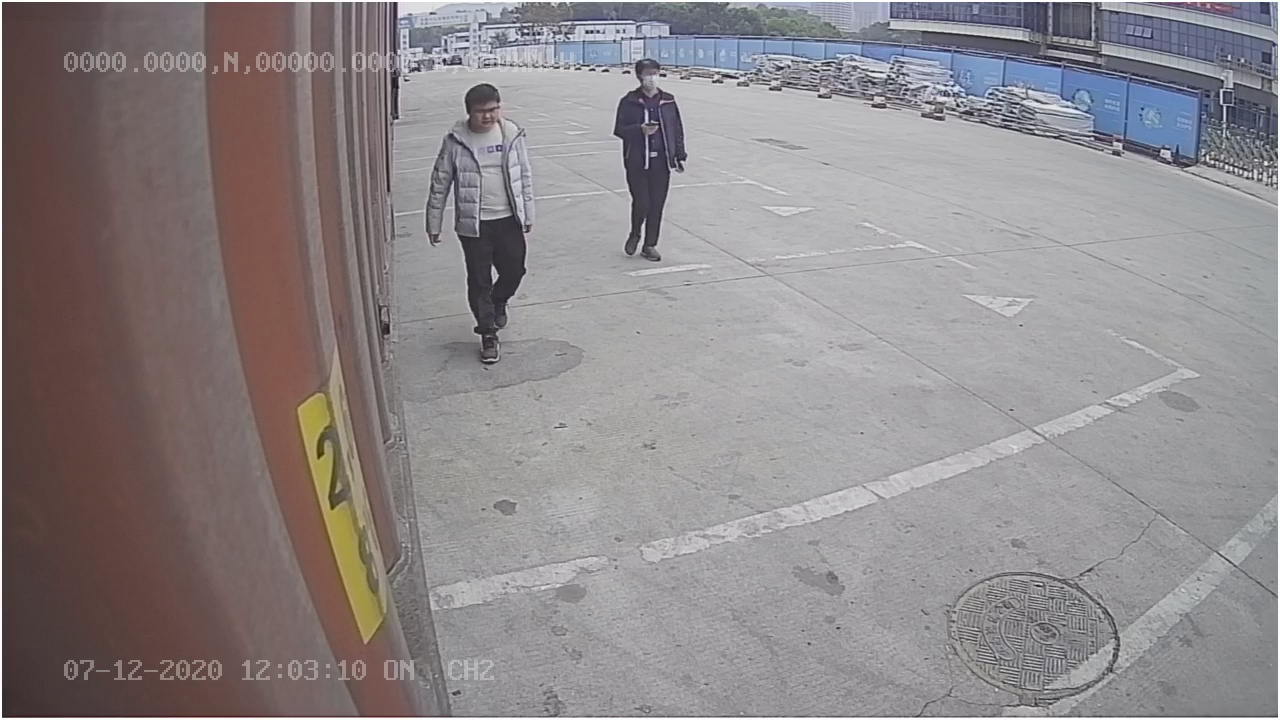person: (426, 83, 542, 362)
